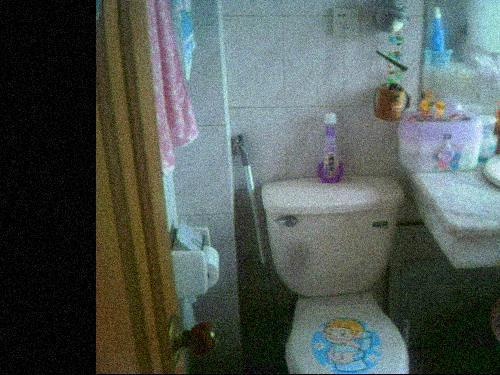Lavamanos: (480, 105, 500, 206)
